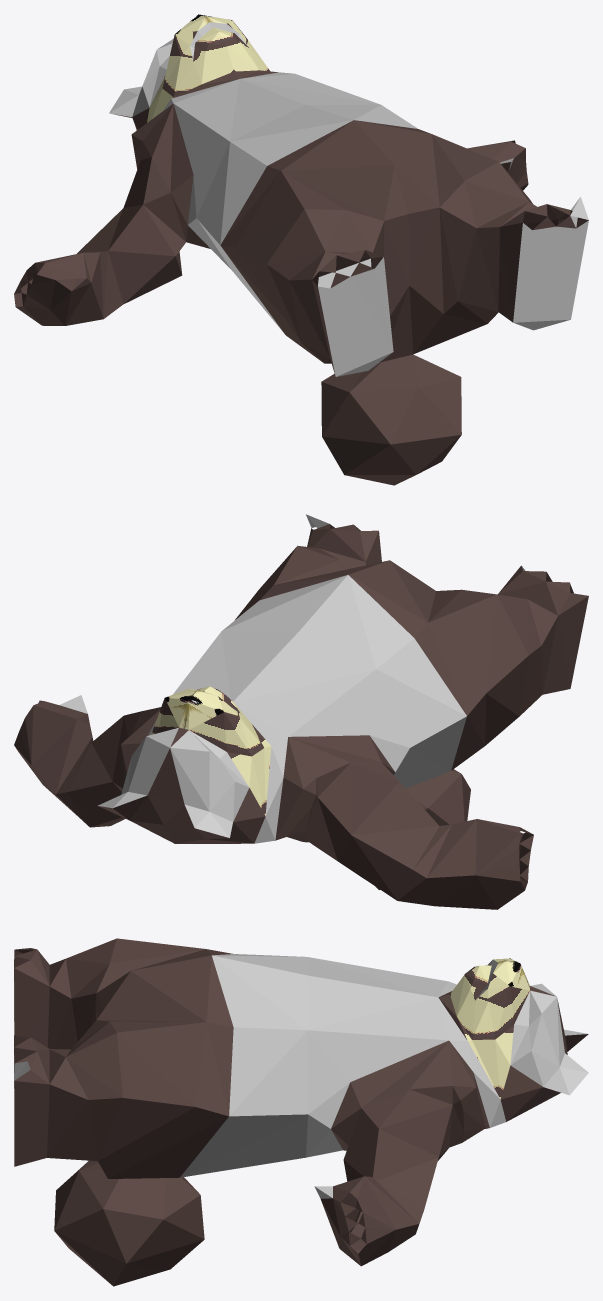
Rendered from BR_Ursaring.obj.
The picture shows the model from 3 angles, top to bottom: view 1: azimuth 30°, elevation 25°; view 2: azimuth 150°, elevation 25°; view 3: azimuth 270°, elevation 25°; orthographic projection. The views are drawn at different scales.
Visible parts, largest first — view 1: ringuma; view 2: ringuma; view 3: ringuma.
Part boxes in pixels (<box>): ringuma: <box>14,14,588,485</box>; ringuma: <box>14,514,588,909</box>; ringuma: <box>14,938,588,1286</box>.
Bounding box in the file's own units: 18.68 × 11.52 × 18.6.
